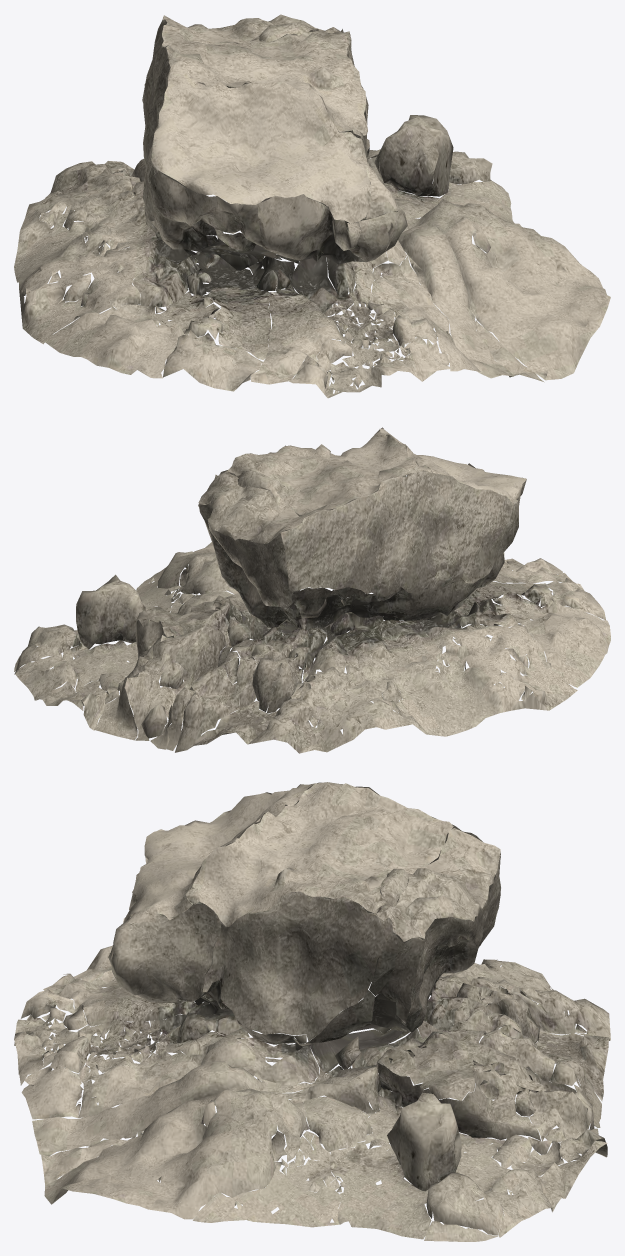
File: coastal-limestone.glb
3 renders of one model, top to bottom at view 1: azimuth 30°, elevation 25°; view 2: azimuth 150°, elevation 25°; view 3: azimuth 270°, elevation 25°, orthographic. The views are drawn at different scales.
Visible parts, largest first — view 1: CoastalLimestoneScan; view 2: CoastalLimestoneScan; view 3: CoastalLimestoneScan.
Boxes of the visible parts, <box> form: CoastalLimestoneScan: <box>14,14,610,398</box>; CoastalLimestoneScan: <box>14,427,610,753</box>; CoastalLimestoneScan: <box>14,782,610,1241</box>.
Size of the model in its own units: 2 by 1 by 1.86.
Materials: 1 (1 with a texture image).
